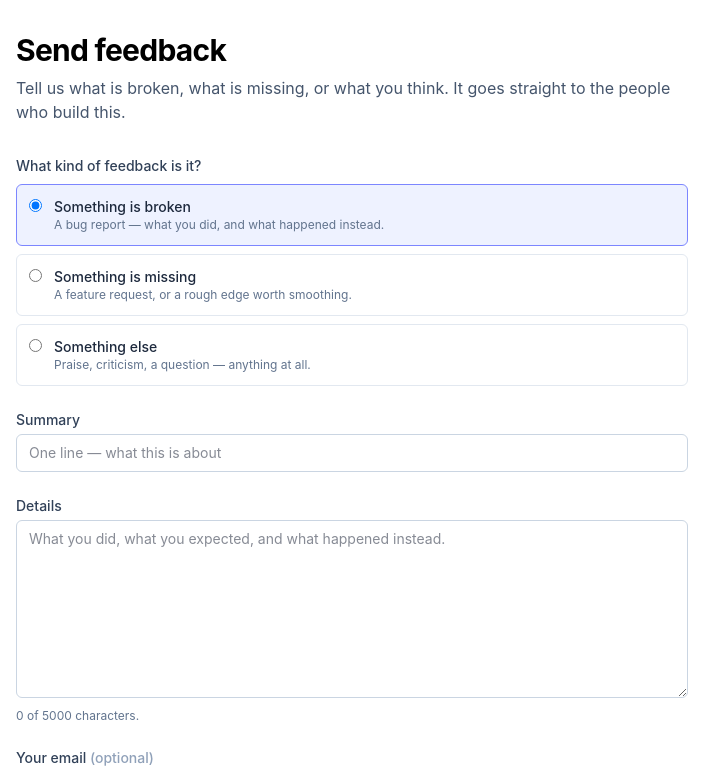
Test: FeedbackPage › posts the message, and says it went
In the field labelled "Summary": (352, 453) [16,434,688,472], type "Slides stop advancing"
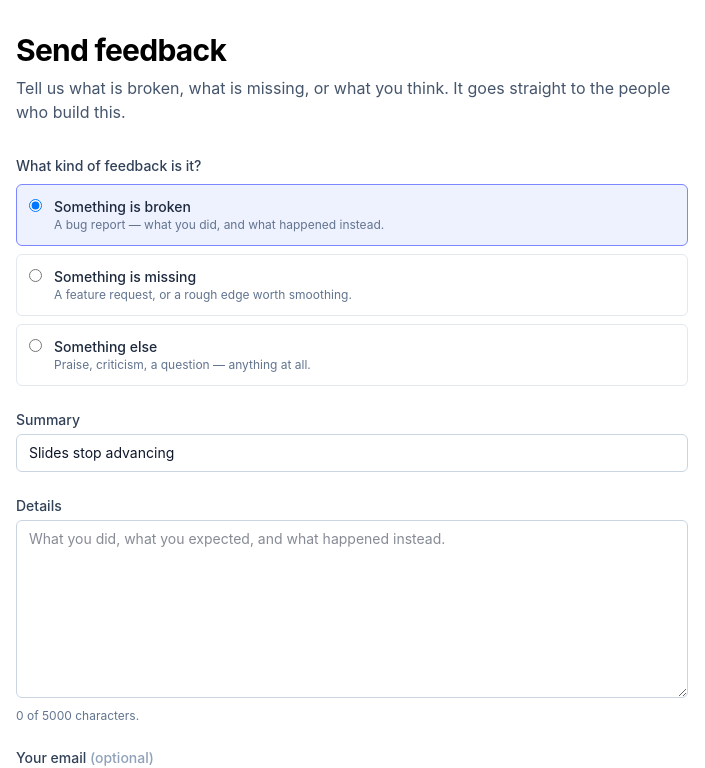
In the text box labelled "Details": (352, 609) [16,520,688,698], type "It froze."
(page scrolled)
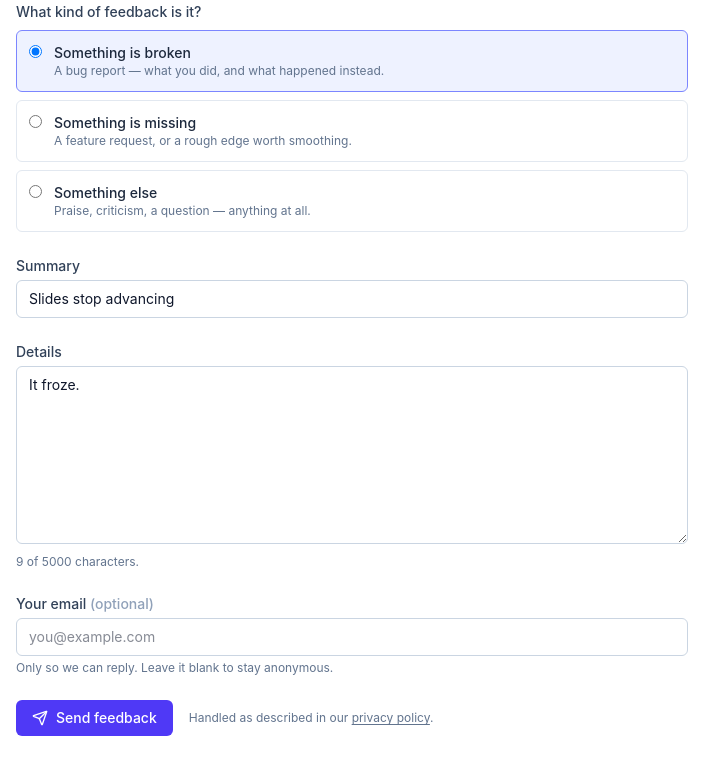
Click the button "Send feedback": (94, 718) [16,700,173,736]
(page scrolled)
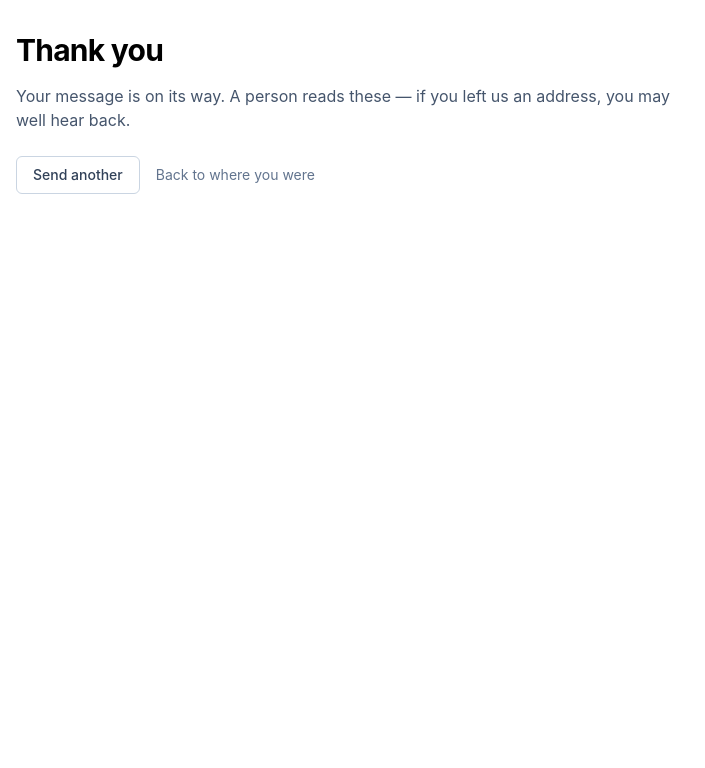
Now the heading "Thank you" is shown, box [16,32,163,68]
